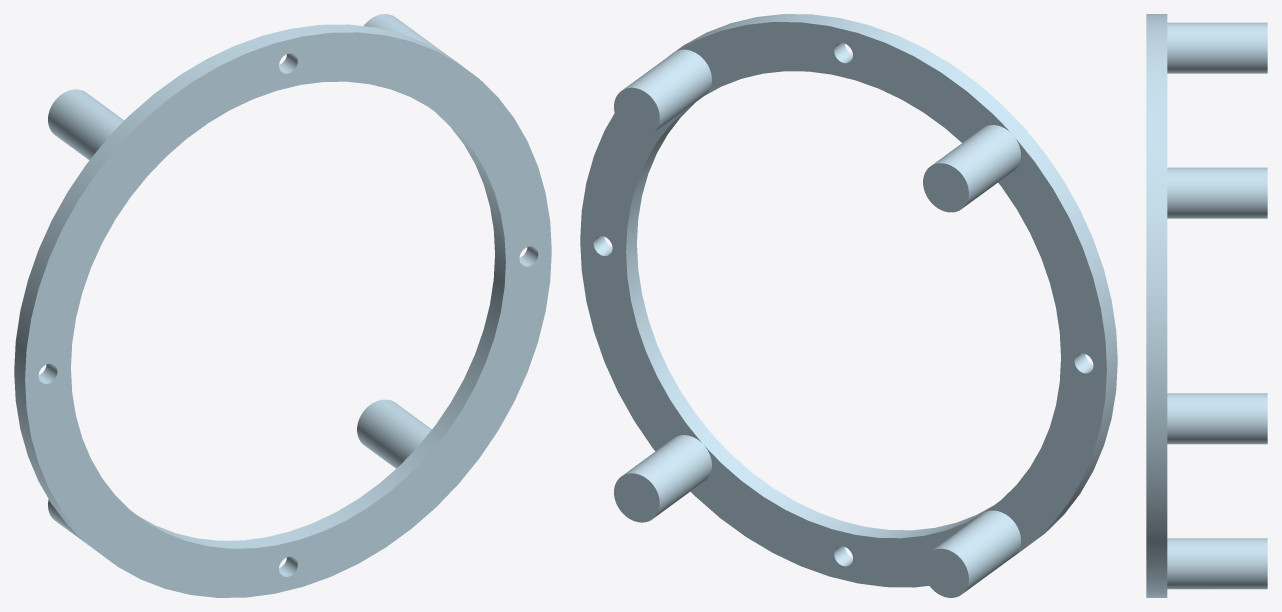
3 renders of one model, left to right at view 1: azimuth 30°, elevation 25°; view 2: azimuth 150°, elevation 25°; view 3: azimuth 270°, elevation 25°, orthographic. The views are drawn at different scales.
Visible parts, largest first — view 1: mesh3148, mesh3141, mesh3140, mesh3137, mesh3146, mesh3142; view 2: mesh3152, mesh3144, mesh3138, mesh3151, mesh3141, mesh3140, mesh3137, mesh3142, mesh3146, mesh3153, mesh3136, mesh3154 (+2 smaller); view 3: mesh3141, mesh3137, mesh3142, mesh3146, mesh3153.
Boxes of the visible parts, bbox=[...] form: mesh3148: bbox=[25, 32, 551, 597]; mesh3141: bbox=[14, 24, 457, 559]; mesh3140: bbox=[139, 108, 505, 548]; mesh3137: bbox=[48, 89, 123, 160]; mesh3146: bbox=[357, 399, 431, 468]; mesh3142: bbox=[364, 14, 444, 53]; mesh3152: bbox=[985, 138, 1106, 555]; mesh3144: bbox=[580, 106, 701, 451]; mesh3138: bbox=[677, 22, 1010, 142]; mesh3151: bbox=[690, 446, 981, 587]; mesh3141: bbox=[675, 14, 1117, 550]; mesh3140: bbox=[626, 100, 992, 538]; mesh3137: bbox=[933, 125, 1020, 207]; mesh3142: bbox=[623, 49, 711, 132]; mesh3146: bbox=[624, 435, 711, 517]; mesh3153: bbox=[932, 510, 1020, 593]; mesh3136: bbox=[923, 163, 968, 212]; mesh3154: bbox=[923, 548, 968, 597]; mesh3141: bbox=[1146, 14, 1167, 597]; mesh3137: bbox=[1167, 22, 1267, 73]; mesh3142: bbox=[1167, 167, 1267, 218]; mesh3146: bbox=[1167, 538, 1267, 589]; mesh3153: bbox=[1167, 393, 1267, 444].
Bounding box in the file's own units: 0.14 × 0.1398 × 0.029.
